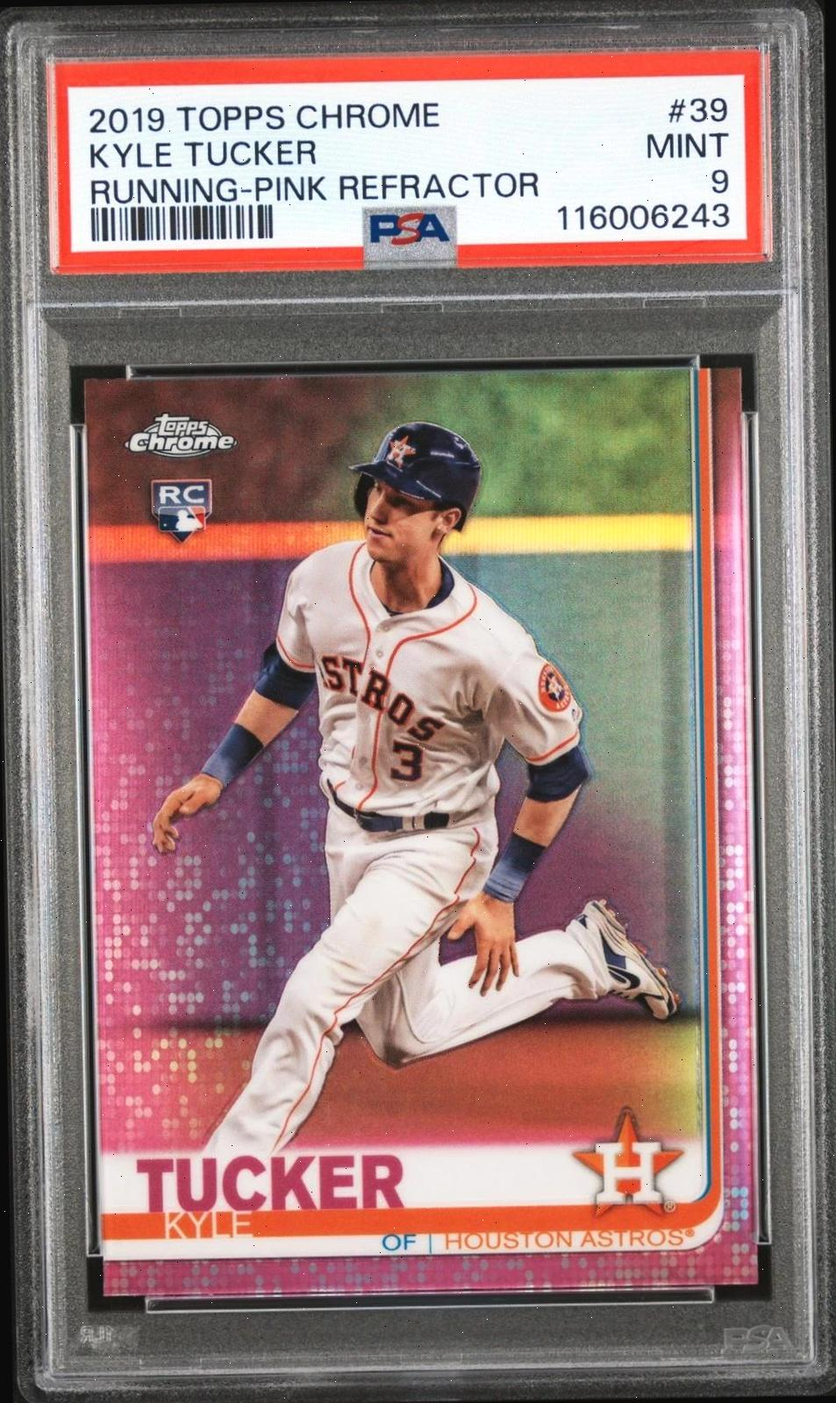card-2UtV: (82, 366, 759, 1298)
